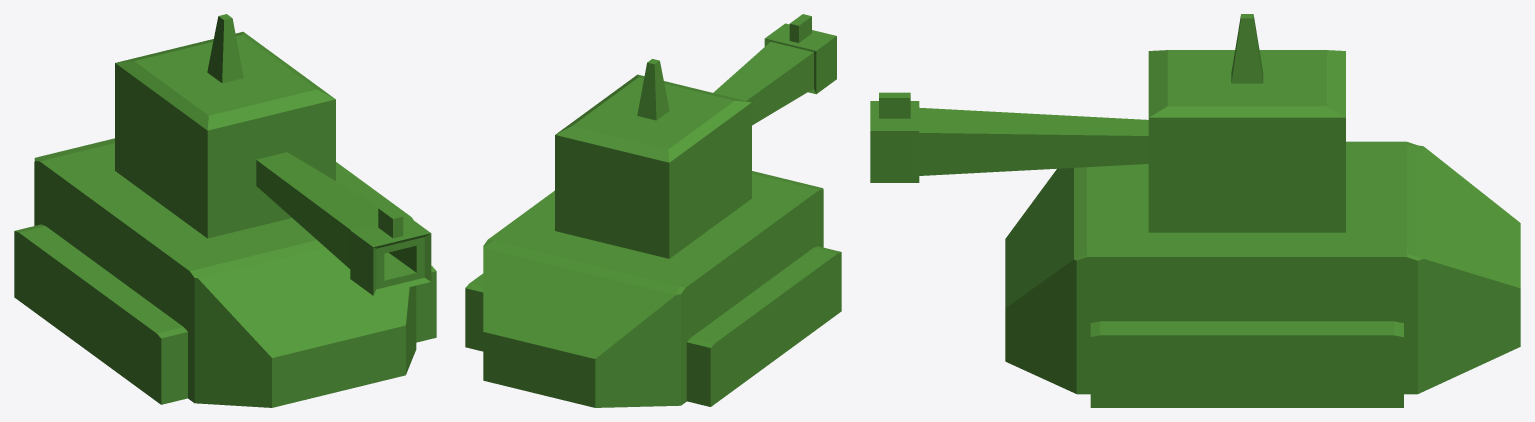
The model's file is tank.fbx.
3 views of the same model, side by side, from view 1: azimuth 30°, elevation 25°; view 2: azimuth 150°, elevation 25°; view 3: azimuth 270°, elevation 25° (orthographic). The views are drawn at different scales.
Visible parts, largest first — view 1: Cube; view 2: Cube; view 3: Cube.
Boxes of the visible parts, x1,y1,x2,y2 form: Cube: (14,14,436,407); Cube: (465,14,841,407); Cube: (870,14,1520,407).
Size of the model in its own units: 248 by 259 by 476.
